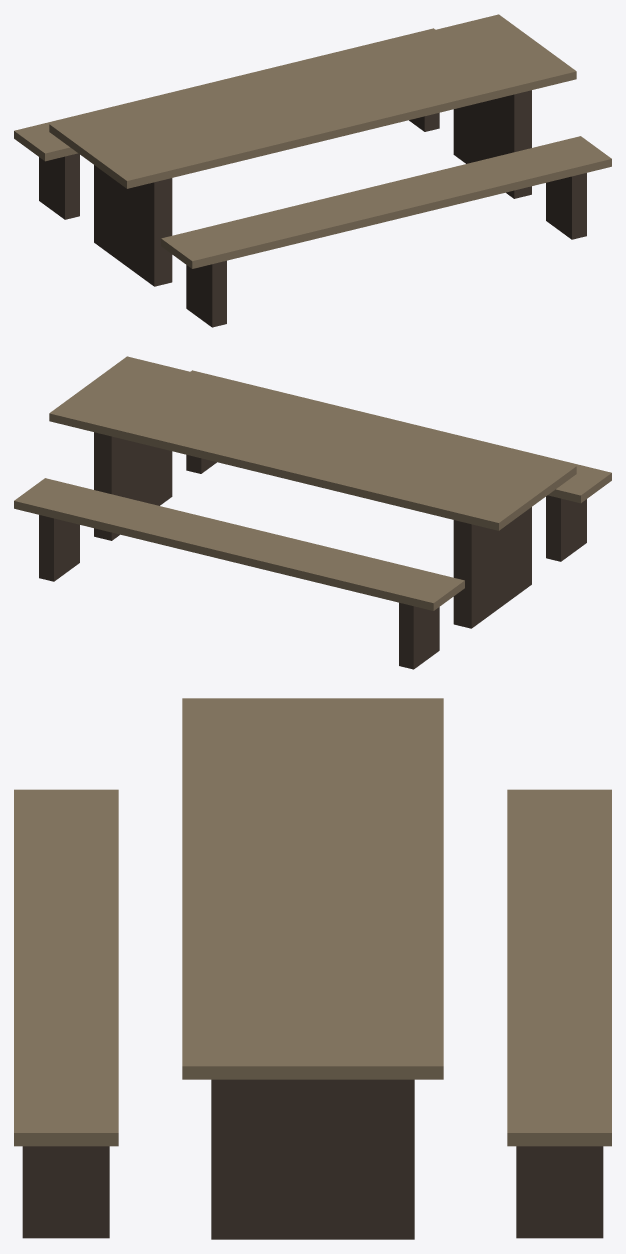
File: city_communal_table.glb
3 renders of one model, top to bottom at view 1: azimuth 30°, elevation 25°; view 2: azimuth 150°, elevation 25°; view 3: azimuth 270°, elevation 25°, orthographic. The views are drawn at different scales.
Visible parts, largest first — view 1: CityCommunalTable_Top, CityCommunalTable_Bench-0.85, CityCommunalTable_Trestle-1.2, CityCommunalTable_Trestle1.2, CityCommunalTable_Bench0.85, CityCommunalTable_BenchLeg0.85-1.2, CityCommunalTable_BenchLeg-0.85-1.2, CityCommunalTable_BenchLeg-0.851.2; view 2: CityCommunalTable_Top, CityCommunalTable_Bench0.85, CityCommunalTable_Trestle-1.2, CityCommunalTable_Trestle1.2, CityCommunalTable_Bench-0.85, CityCommunalTable_BenchLeg0.85-1.2, CityCommunalTable_BenchLeg-0.85-1.2, CityCommunalTable_BenchLeg0.851.2; view 3: CityCommunalTable_Top, CityCommunalTable_Bench0.85, CityCommunalTable_Bench-0.85, CityCommunalTable_Trestle1.2, CityCommunalTable_BenchLeg0.851.2, CityCommunalTable_BenchLeg-0.851.2.
Part boxes in pixels (x1,y1,x2,y2): CityCommunalTable_Top: [49, 14, 576, 188]; CityCommunalTable_Bench-0.85: [161, 136, 611, 268]; CityCommunalTable_Trestle-1.2: [94, 165, 172, 286]; CityCommunalTable_Trestle1.2: [453, 90, 531, 198]; CityCommunalTable_Bench0.85: [14, 28, 435, 161]; CityCommunalTable_BenchLeg0.85-1.2: [39, 153, 79, 219]; CityCommunalTable_BenchLeg-0.85-1.2: [186, 260, 226, 327]; CityCommunalTable_BenchLeg-0.851.2: [546, 173, 586, 239]; CityCommunalTable_Top: [49, 356, 576, 530]; CityCommunalTable_Bench0.85: [14, 478, 464, 610]; CityCommunalTable_Trestle-1.2: [453, 507, 531, 628]; CityCommunalTable_Trestle1.2: [94, 432, 172, 540]; CityCommunalTable_Bench-0.85: [190, 370, 611, 503]; CityCommunalTable_BenchLeg0.85-1.2: [399, 602, 439, 669]; CityCommunalTable_BenchLeg-0.85-1.2: [546, 495, 586, 561]; CityCommunalTable_BenchLeg0.851.2: [39, 515, 79, 581]; CityCommunalTable_Top: [182, 698, 443, 1079]; CityCommunalTable_Bench0.85: [507, 789, 611, 1146]; CityCommunalTable_Bench-0.85: [14, 789, 118, 1146]; CityCommunalTable_Trestle1.2: [211, 1079, 414, 1239]; CityCommunalTable_BenchLeg0.851.2: [516, 1146, 603, 1238]; CityCommunalTable_BenchLeg-0.851.2: [22, 1146, 109, 1238].
Size of the model in its own units: 3 by 0.77 by 2.06.
